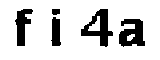4: (76, 5, 116, 50)
a: (117, 17, 147, 50)
f: (7, 7, 36, 50)
i: (46, 6, 67, 51)
